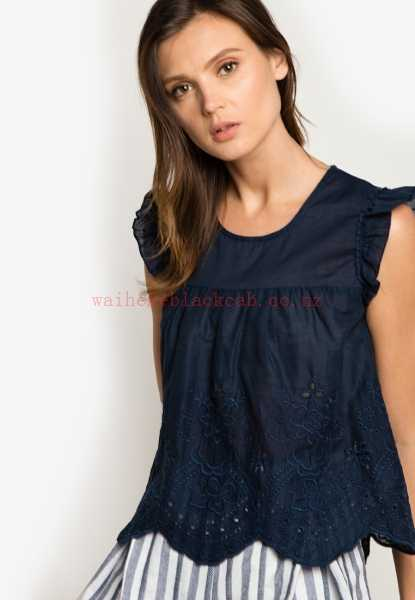C_dress: (109, 173, 401, 588)
